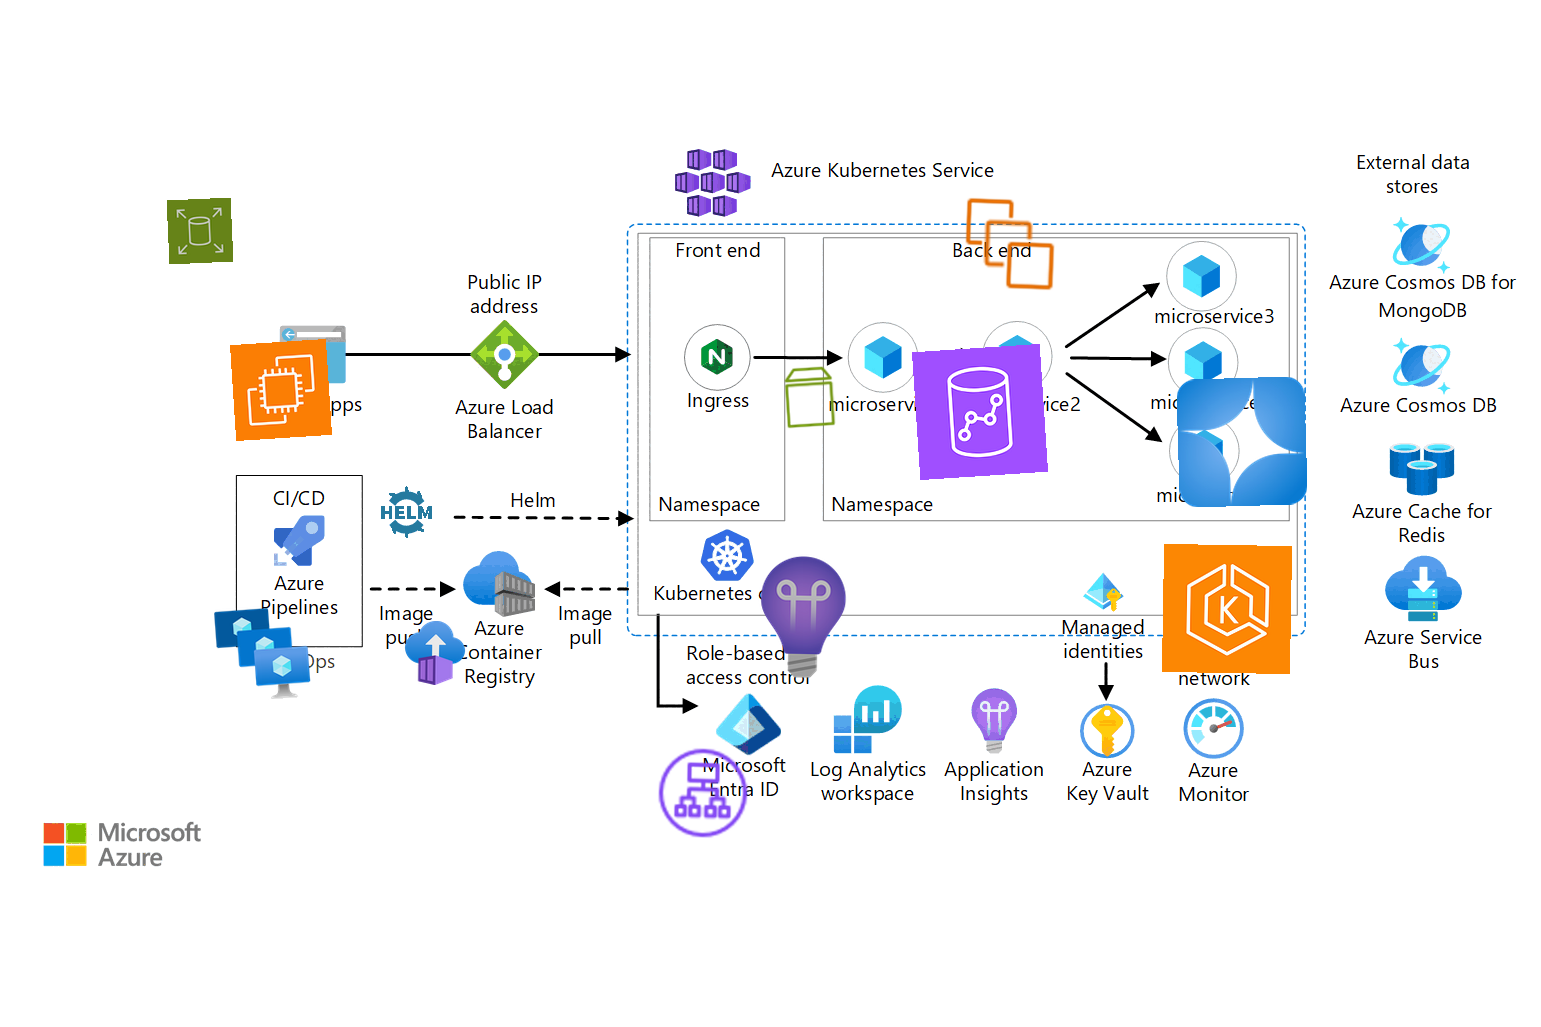aws_amazon_ec2: (229, 338, 333, 442)
aws_amazon_elastic_block_store: (166, 197, 234, 265)
aws_amazon_elastic_kubernetes_service: (1161, 543, 1294, 675)
aws_amazon_redshift: (911, 343, 1049, 481)
aws_ec2_instances: (960, 194, 1060, 293)
aws_elastic_block_store_volume: (775, 362, 846, 432)
aws_elastic_load_balancing_application_load_balancer: (653, 743, 753, 842)
azure_application_insights: (737, 551, 868, 683)
azure_container_instances: (402, 620, 467, 685)
azure_openai: (1176, 376, 1308, 508)
azure_vm_scale_sets: (209, 599, 313, 704)
